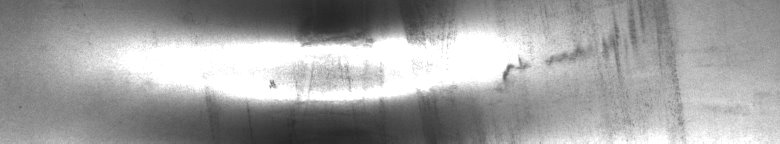ke: (196, 4, 685, 126)
